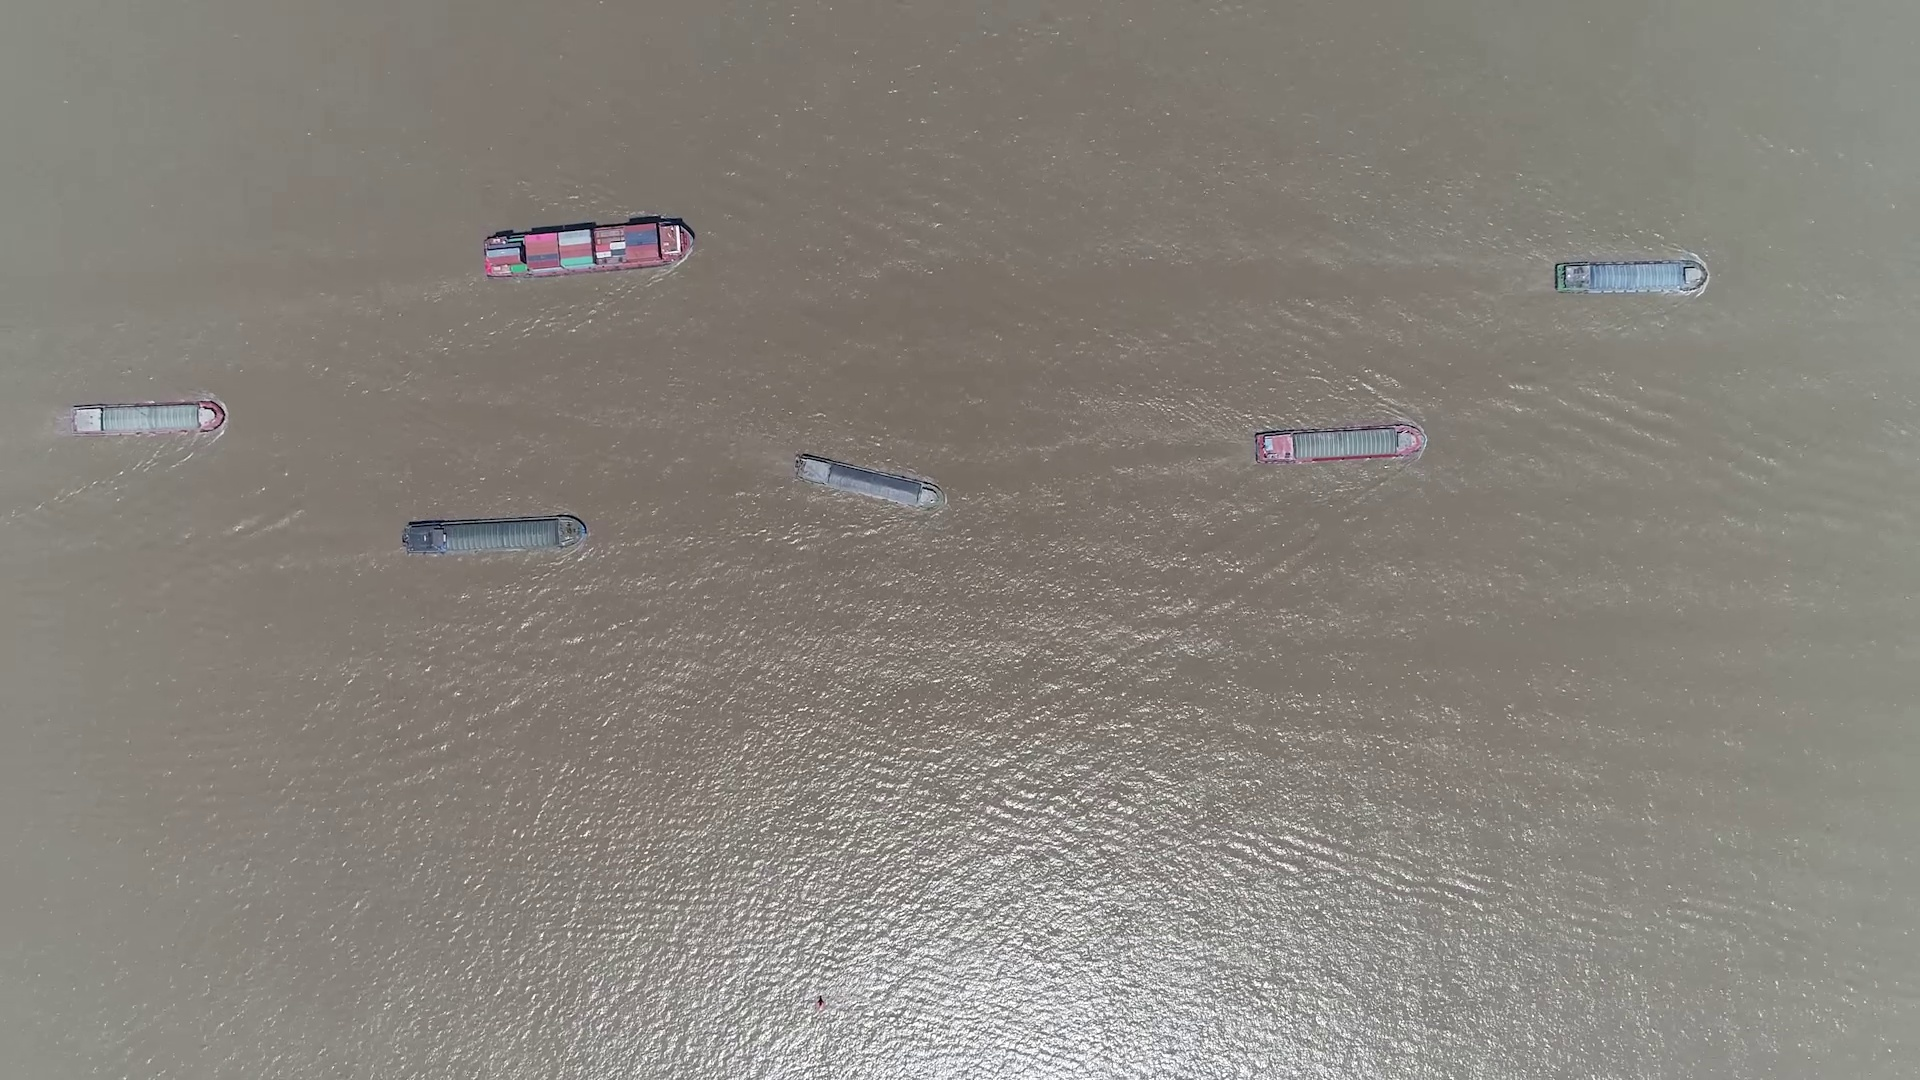ship: (484, 222, 694, 278), (793, 454, 942, 509), (401, 516, 587, 555), (1253, 425, 1427, 464), (69, 404, 225, 436), (1556, 260, 1705, 293)
